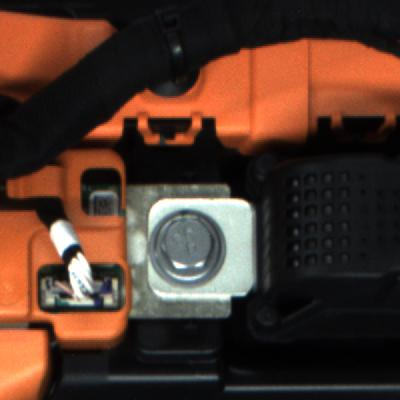nut_b: (140, 201, 236, 292)
